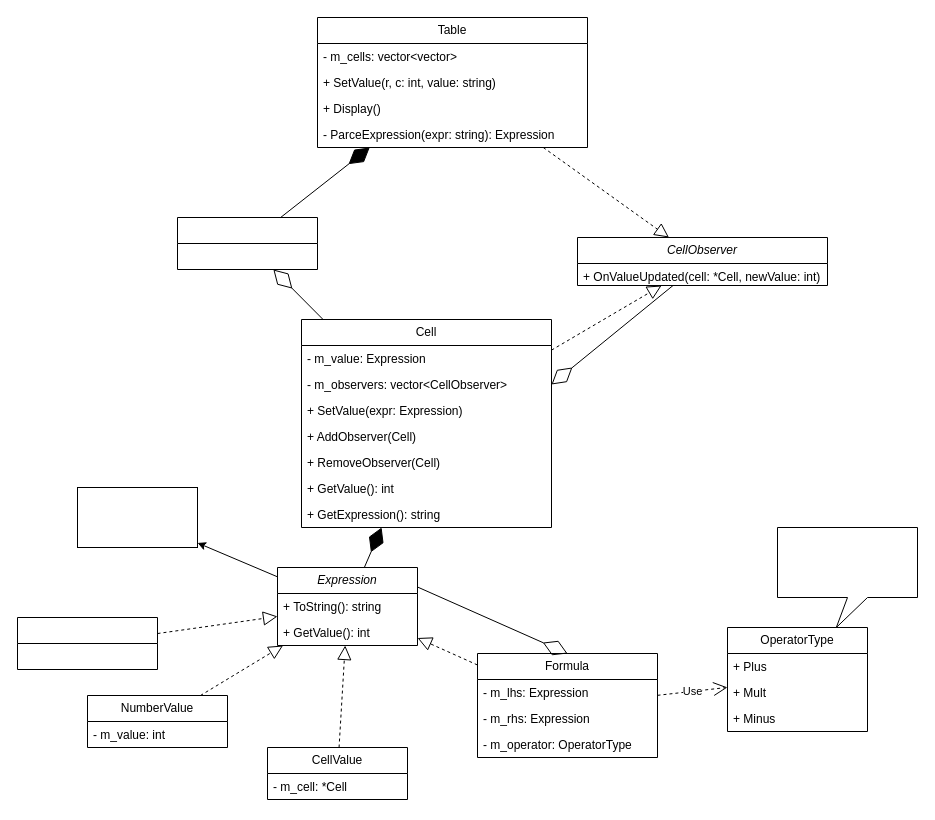
The diagram is 935 pixels wide and 820 high, and some of its shapes have lost their labels. Each missing label, with the centre of its shape:
CoW<typename>: point (247, 243)
EmptyValue: point (87, 643)
Для вывода текста можно использовать паттерн "посетитель": point (137, 517)
Можно заменить на стратегию (но зачем): point (847, 577)
